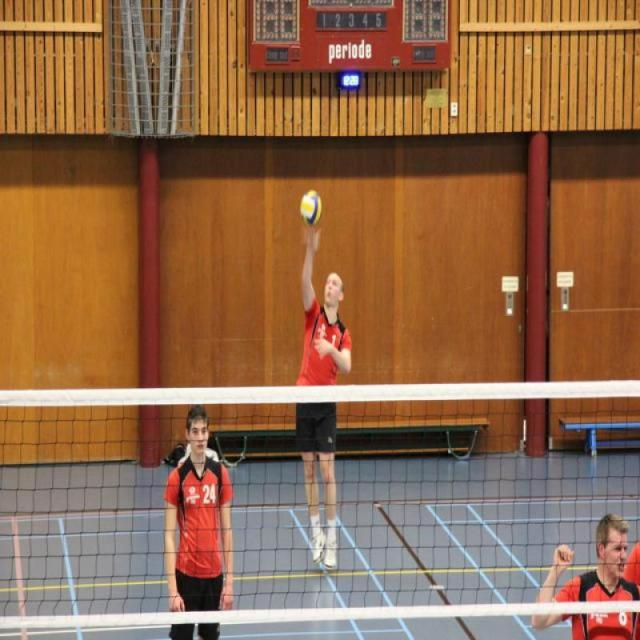volleyball: (299, 187, 323, 229)
